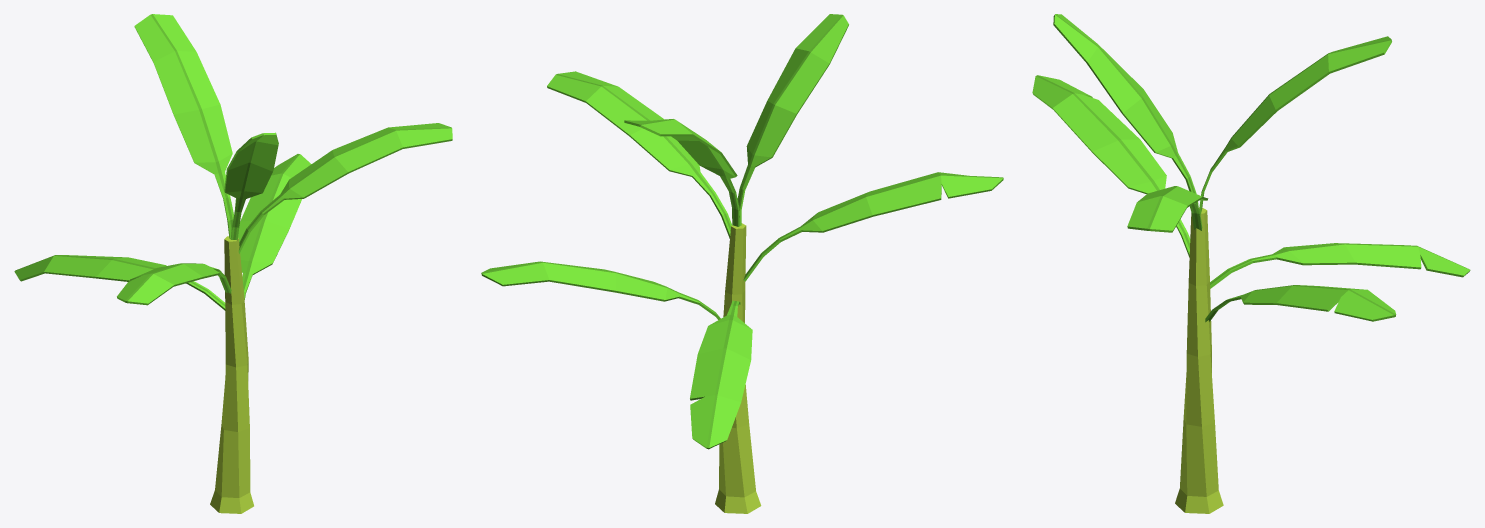
The model's file is bananaTree.fbx.
3 views of the same model, side by side, from view 1: azimuth 30°, elevation 25°; view 2: azimuth 150°, elevation 25°; view 3: azimuth 270°, elevation 25° (orthographic). The views are drawn at different scales.
Visible parts, largest first — view 1: Plane.011, Banana Trunk, Plane.005, Plane.016, Plane.008, Plane.007, Plane.014; view 2: Plane.008, Plane.007, Plane.005, Plane.014, Banana Trunk, Plane.016, Plane.011; view 3: Banana Trunk, Plane.014, Plane.007, Plane.008, Plane.011, Plane.016, Plane.005.
Boxes of the visible parts, x1=… form: Plane.011: x1=134, y1=14, x2=233, y2=238; Banana Trunk: x1=210, y1=236, x2=253, y2=513; Plane.005: x1=238, y1=123, x2=452, y2=253; Plane.016: x1=238, y1=154, x2=311, y2=299; Plane.008: x1=14, y1=255, x2=225, y2=310; Plane.007: x1=224, y1=132, x2=278, y2=240; Plane.014: x1=117, y1=263, x2=231, y2=305; Plane.008: x1=690, y1=300, x2=752, y2=449; Plane.007: x1=737, y1=14, x2=848, y2=225; Plane.005: x1=547, y1=71, x2=731, y2=238; Plane.014: x1=743, y1=172, x2=1003, y2=281; Banana Trunk: x1=715, y1=223, x2=761, y2=513; Plane.016: x1=481, y1=261, x2=720, y2=319; Plane.011: x1=624, y1=119, x2=739, y2=226; Banana Trunk: x1=1175, y1=208, x2=1223, y2=513; Plane.014: x1=1032, y1=75, x2=1190, y2=257; Plane.007: x1=1053, y1=14, x2=1198, y2=206; Plane.008: x1=1210, y1=243, x2=1470, y2=288; Plane.011: x1=1199, y1=36, x2=1391, y2=214; Plane.016: x1=1205, y1=285, x2=1396, y2=322; Plane.005: x1=1127, y1=186, x2=1208, y2=232.
Bounding box in the file's own units: 779 × 847 × 713.
